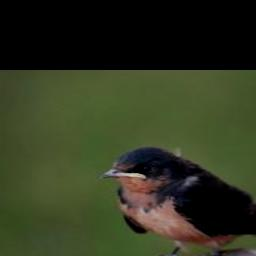Swallow: (100, 144, 256, 256)
